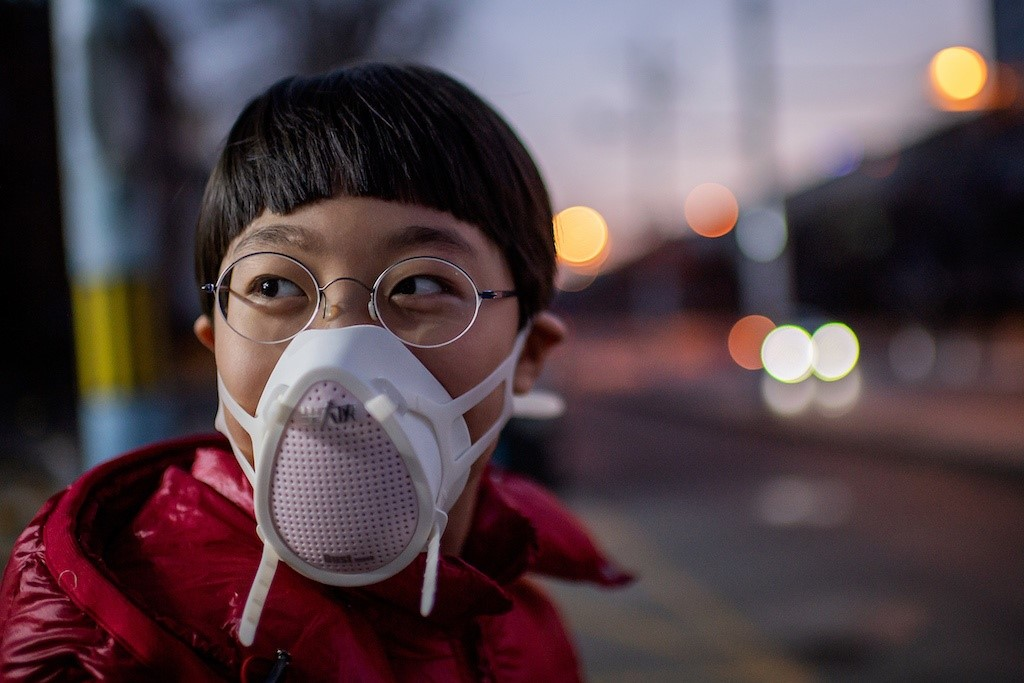face_with_mask: (197, 53, 571, 594)
